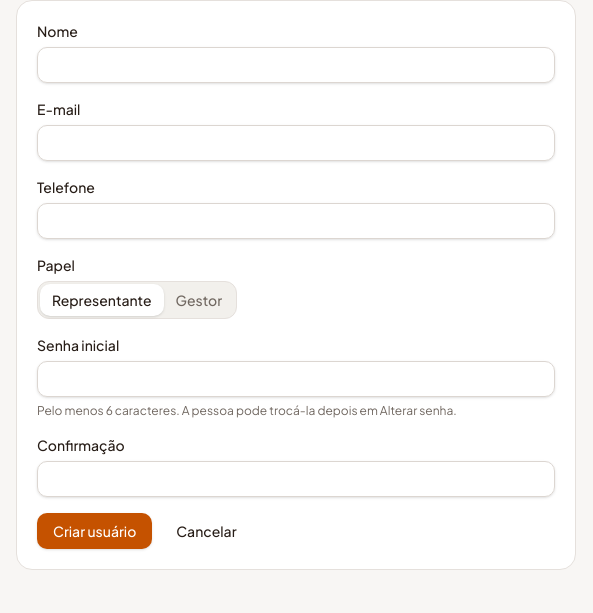
Scenario: NovoUsuarioPage › senha com 5 caracteres mostra "A senha deve ter pelo menos 6 caracteres." e não envia
The width and height of the screenshot is (593, 613).
Type "Bruna Lima" into the field labelled "Nome" at (296, 65), box top-left (37, 47), bottom-right (555, 83)
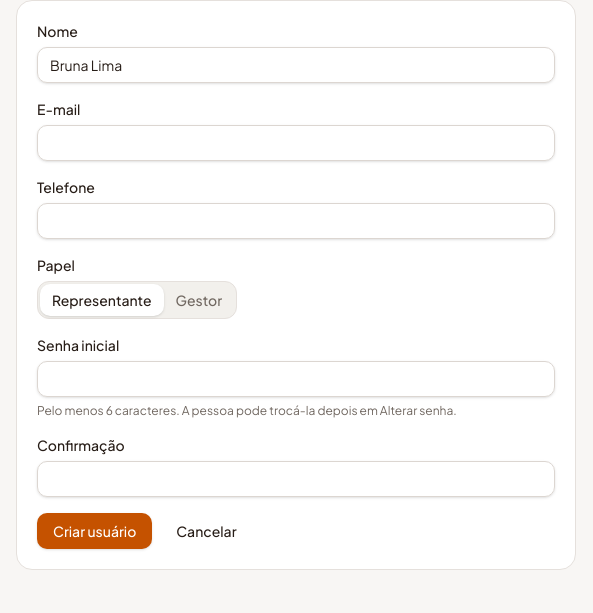
Type "bruna@chokolaten.com.br" into the field labelled "E-mail" at (296, 143), box top-left (37, 125), bottom-right (555, 161)
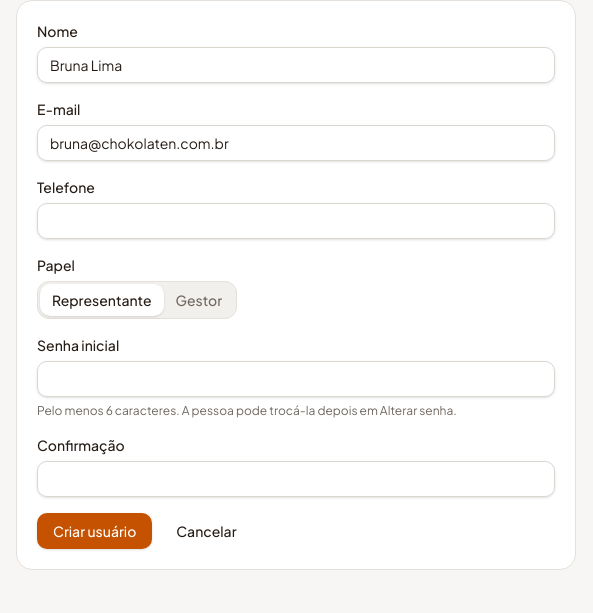
Type "(47) 99977-0000" into the field labelled "Telefone" at (296, 221), box top-left (37, 203), bottom-right (555, 239)
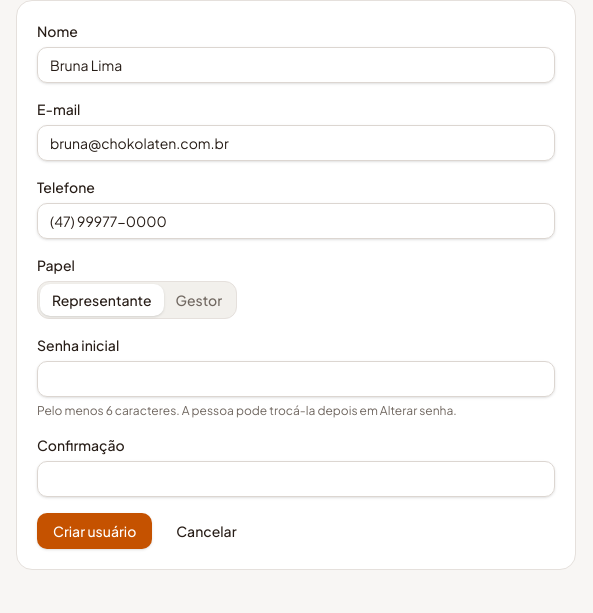
Type "12345" into the password field labelled "Senha inicial" at (296, 379), box top-left (37, 361), bottom-right (555, 397)
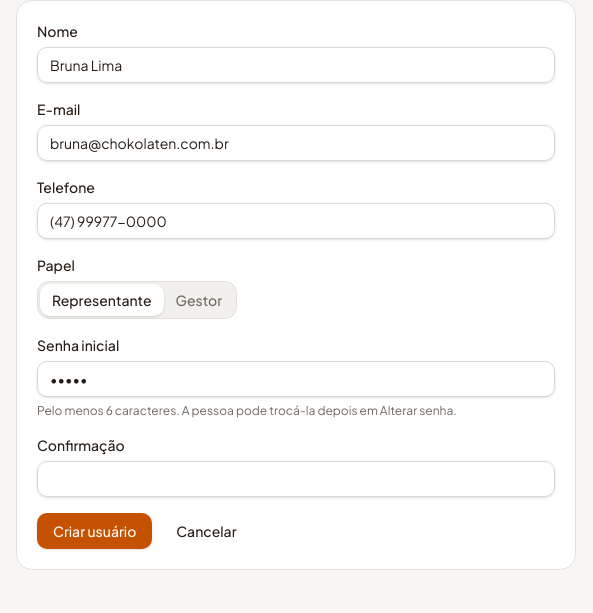
Type "12345" into the password field labelled "Confirmação" at (296, 479), box top-left (37, 461), bottom-right (555, 497)
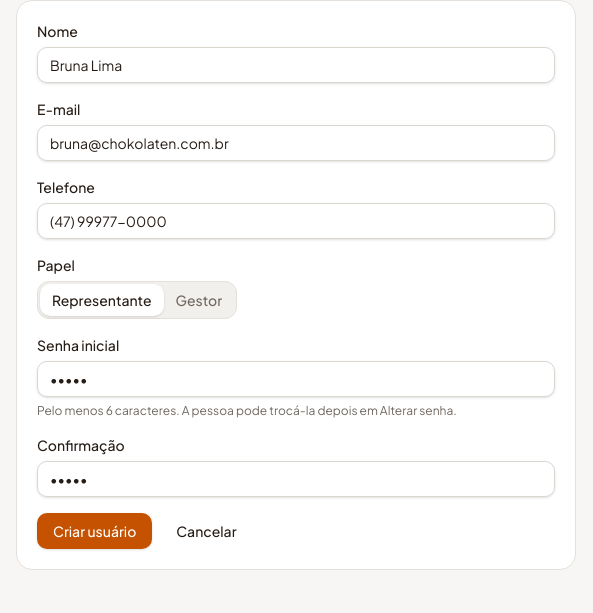
Click the button "Criar usuário" at (95, 531), box top-left (37, 513), bottom-right (152, 549)
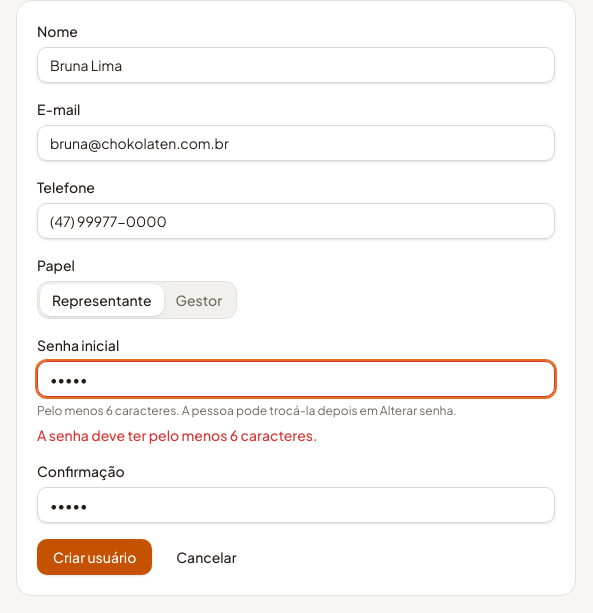
Check: the text "A senha deve ter pelo menos 6 caracteres." is shown, box top-left (37, 426), bottom-right (317, 444)
